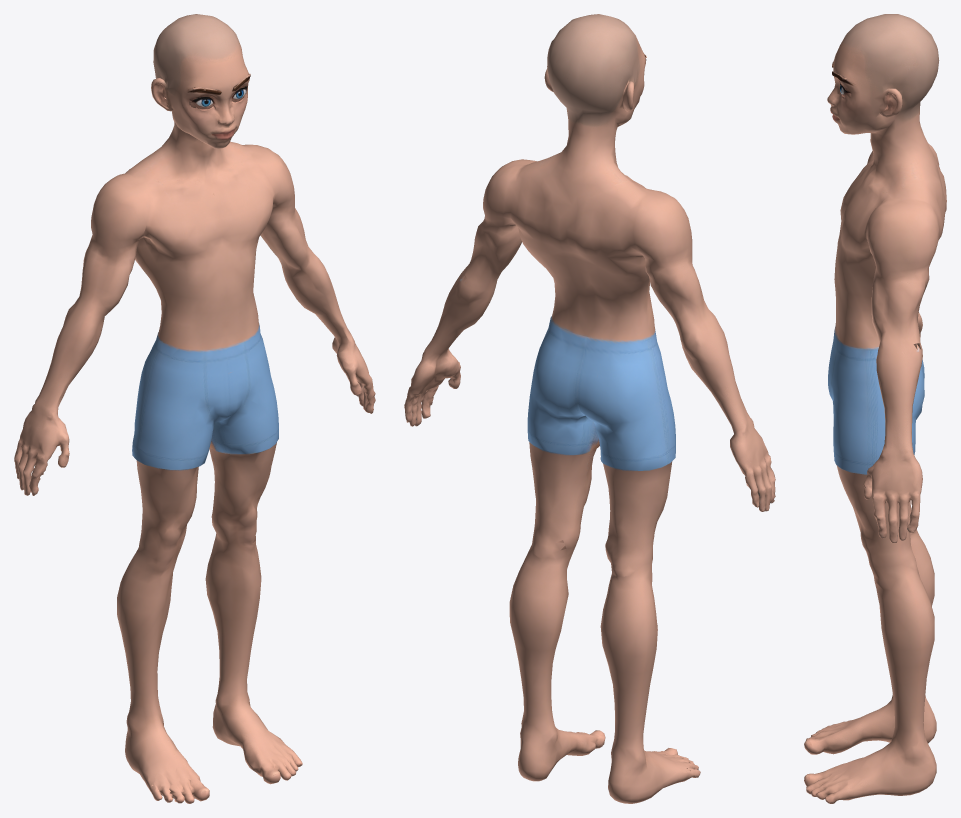
File: male_meshy_tex.glb
3 renders of one model, left to right at view 1: azimuth 30°, elevation 25°; view 2: azimuth 150°, elevation 25°; view 3: azimuth 270°, elevation 25°, orthographic. The views are drawn at different scales.
Size of the model in its own units: 0.4644 by 0.9497 by 0.1631.
1 material, 1 textured.
